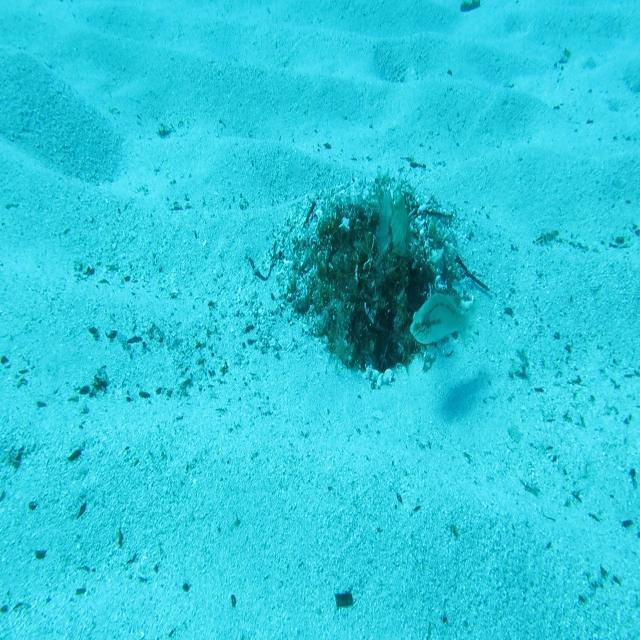NIP_IN: (378, 182, 410, 262)
core_nest: (345, 221, 401, 277)
female: (408, 289, 478, 353)
nest: (266, 168, 482, 401)
vegetation: (333, 590, 357, 610), (458, 0, 482, 16)
